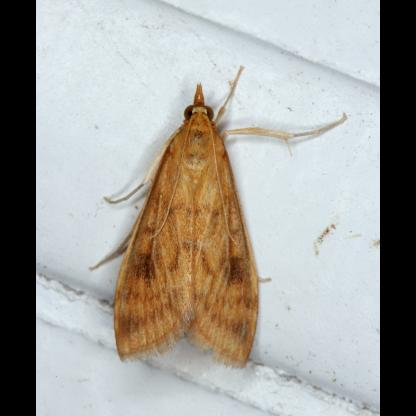Asian Corn Borer Moth: (87, 63, 352, 374)
